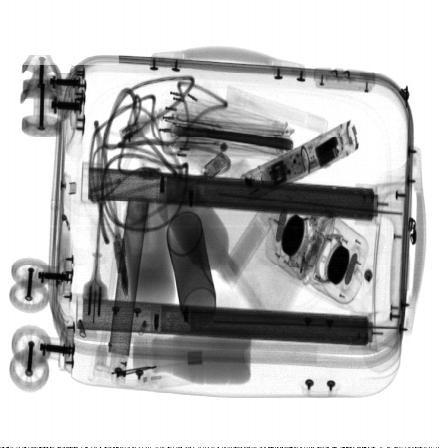Baton: (240, 120, 360, 200)
